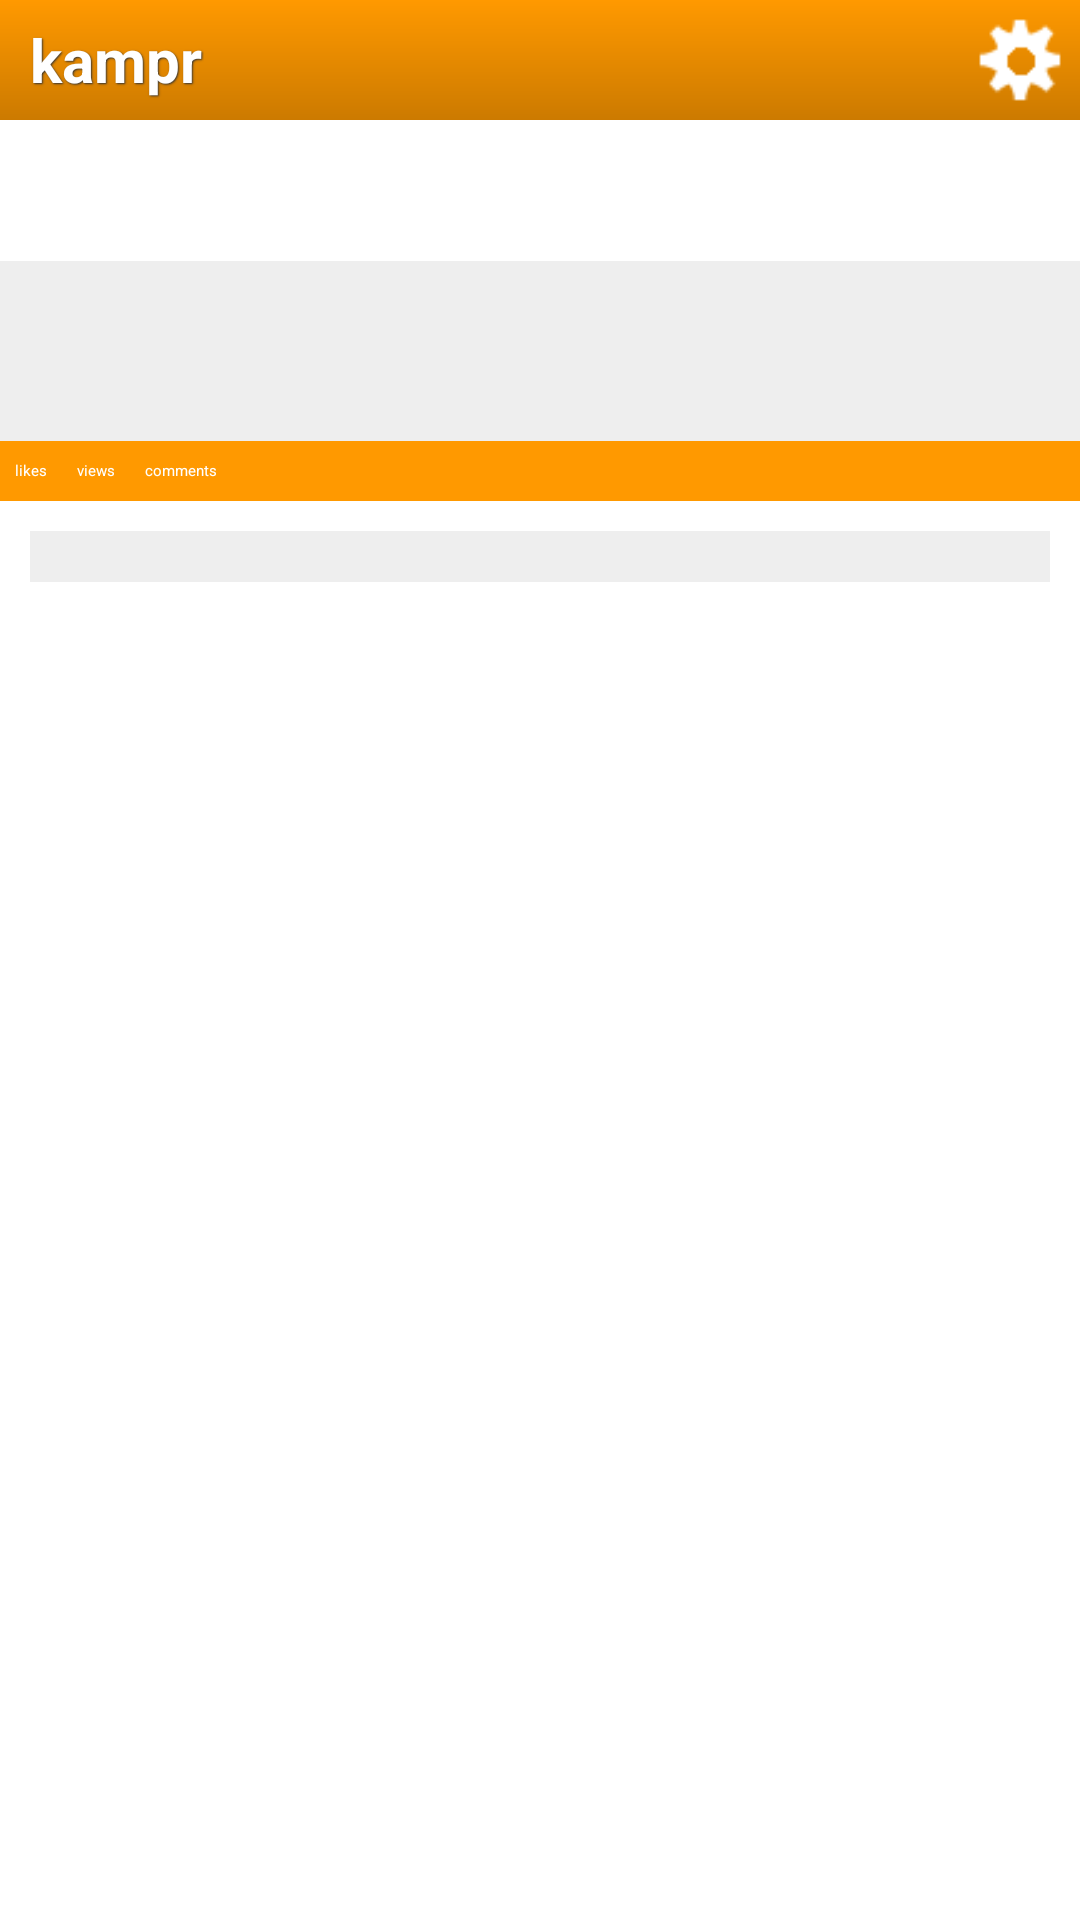

Icon click points for this 1080px x 1920px phone screenshot, format [x,y]:
settings nouveau: [1020,60]
